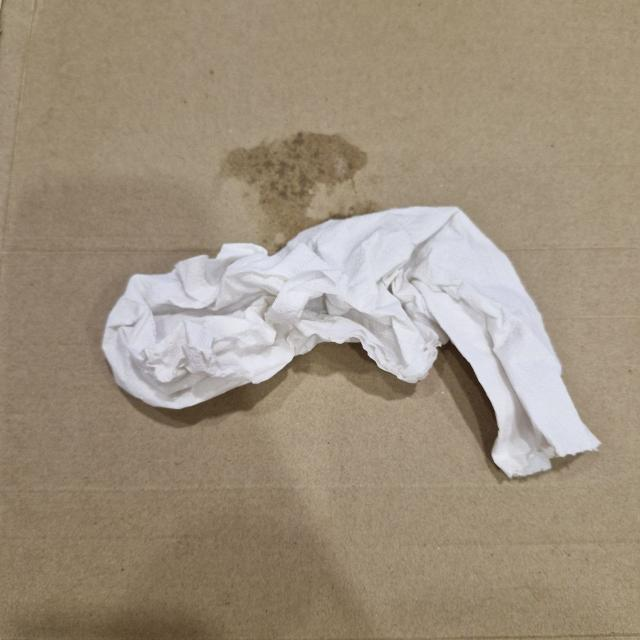paper: (100, 188, 608, 478)
